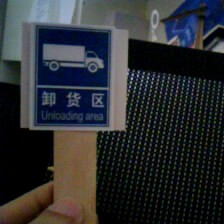unload: (25, 25, 119, 128)
